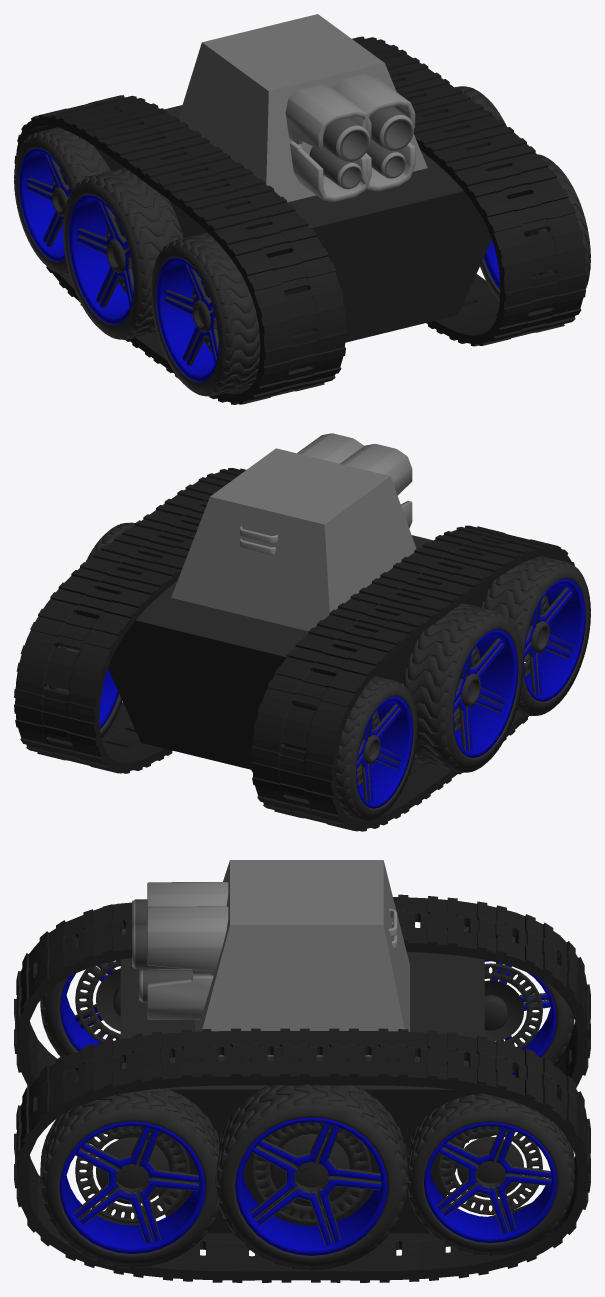
Rendered from tanktaret5.fbx.
3 views of the same model, one above another, from view 1: azimuth 30°, elevation 25°; view 2: azimuth 150°, elevation 25°; view 3: azimuth 270°, elevation 25° (orthographic). The views are drawn at different scales.
Visible parts, largest first — view 1: Cube.002, Cube.001, Plane; view 2: Cube.002, Cube.001, Plane; view 3: Cube.002, Cube.001, Plane.
Boxes of the visible parts, x1=… form: Cube.002: x1=14, y1=86, x2=590, y2=396; Cube.001: x1=14, y1=36, x2=587, y2=404; Plane: x1=178, y1=14, x2=427, y2=202; Cube.002: x1=47, y1=481, x2=590, y2=821; Cube.001: x1=14, y1=468, x2=574, y2=831; Plane: x1=171, y1=433, x2=416, y2=631; Cube.002: x1=40, y1=902, x2=574, y2=1270; Cube.001: x1=14, y1=894, x2=590, y2=1282; Plane: x1=132, y1=860, x2=409, y2=1056.
Size of the model in its own units: 474 by 305 by 537.
